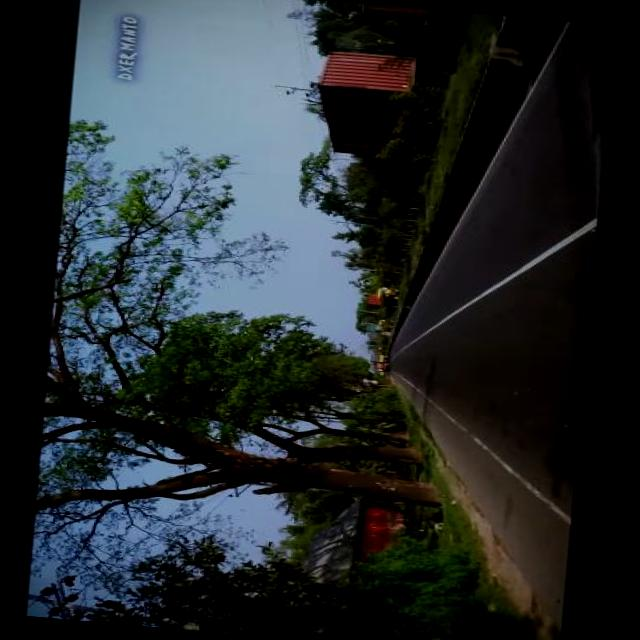truck: (368, 352, 389, 363)
